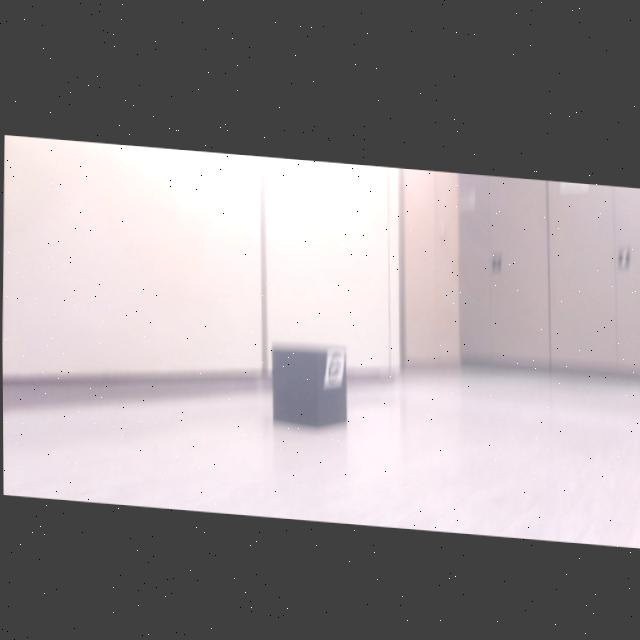G: (328, 347, 339, 379)
